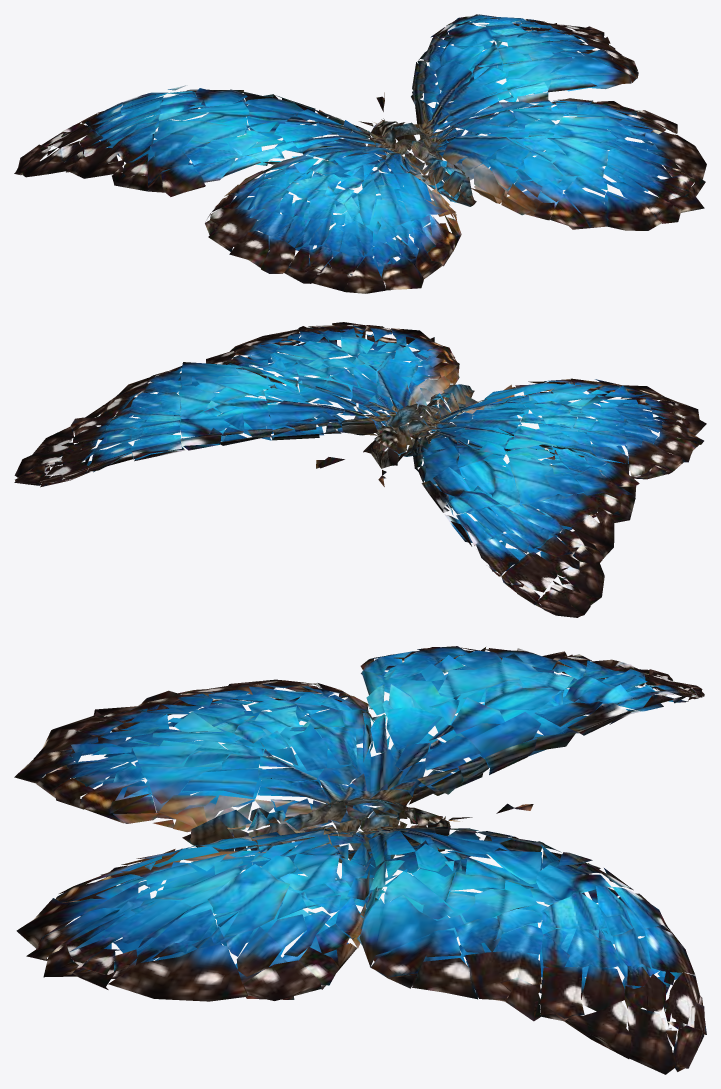
The model's file is Butterfly_Small.glb.
3 renders of one model, top to bottom at view 1: azimuth 30°, elevation 25°; view 2: azimuth 150°, elevation 25°; view 3: azimuth 270°, elevation 25°, orthographic. The views are drawn at different scales.
Parts seen in each view (by area): view 1: Butterfly_Small; view 2: Butterfly_Small; view 3: Butterfly_Small.
Boxes of the visible parts, box(x1,y1,x2,y2) form: Butterfly_Small: box(14, 14, 706, 293); Butterfly_Small: box(14, 322, 706, 617); Butterfly_Small: box(14, 646, 706, 1074).
Size of the model in its own units: 0.14 by 0.0178 by 0.1043.
1 material, 1 textured.
